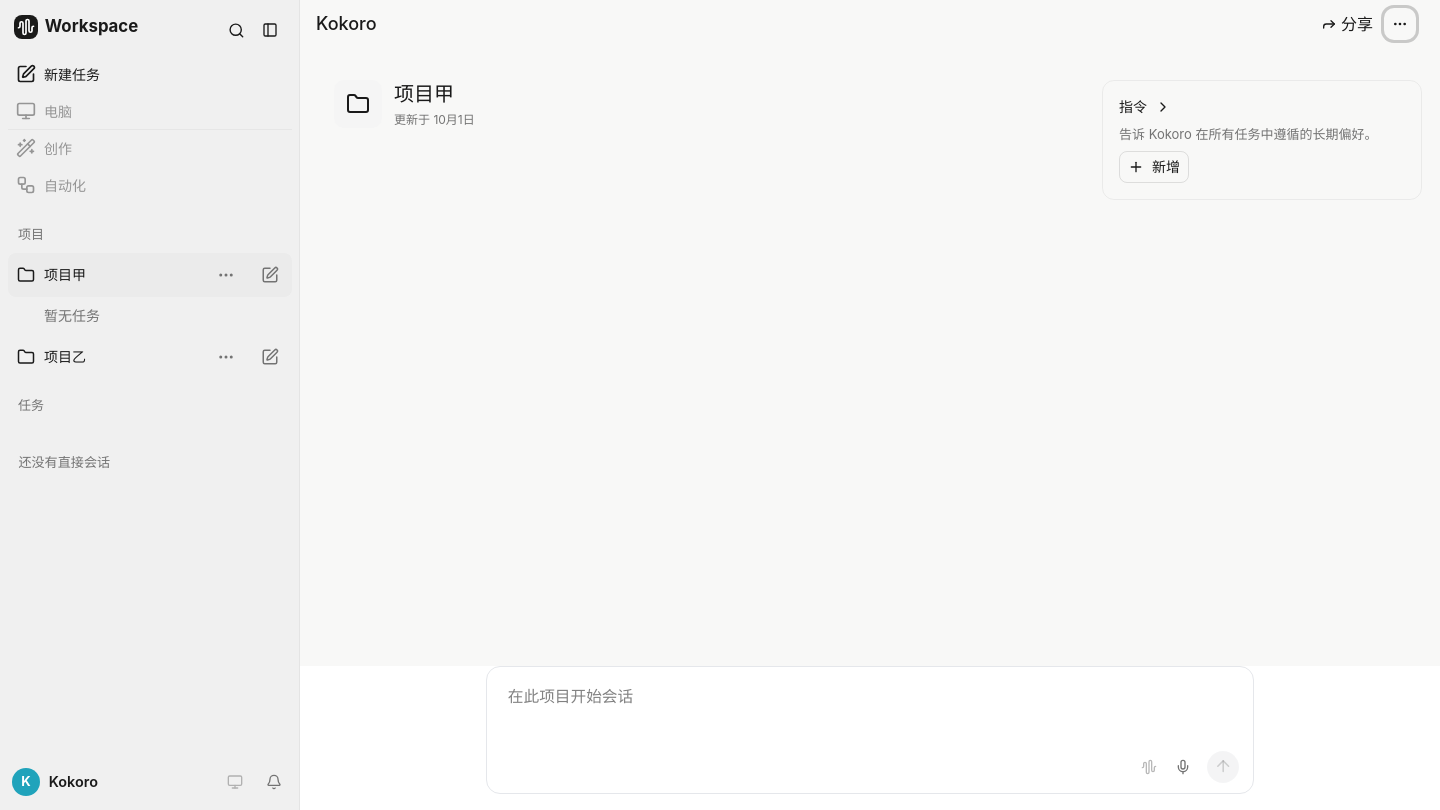
Test case: PATCH 403 保持编辑原文并呈现失败，不报保存成功
Check: the heading "项目甲" is shown, box x1=394 y1=82 x2=454 y2=106
Press ArrowDown in the 1st button named "项目选项", box x1=1384 y1=8 x2=1416 y2=40
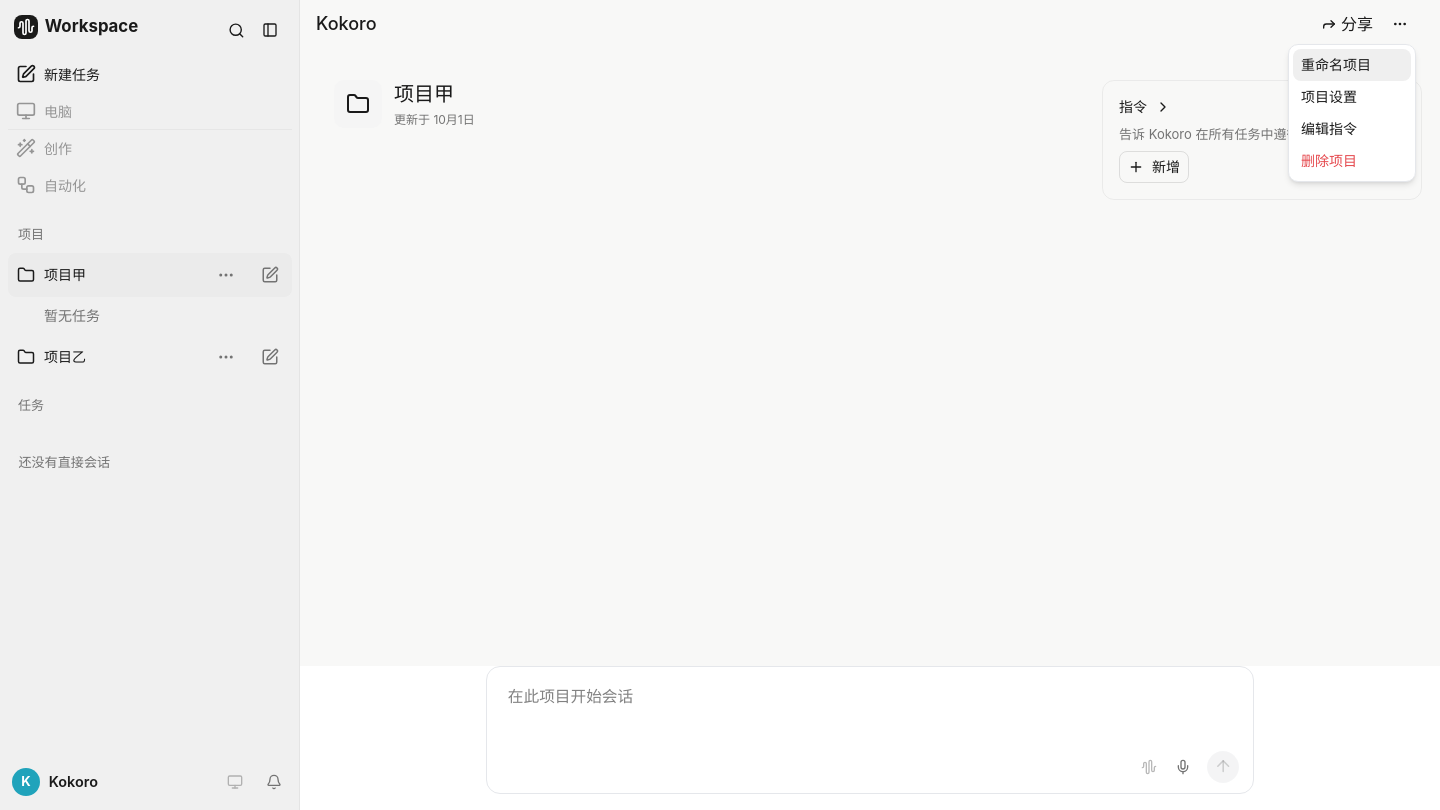
Click the menu item "编辑指令": (1329, 128) x1=1301 y1=120 x2=1357 y2=137
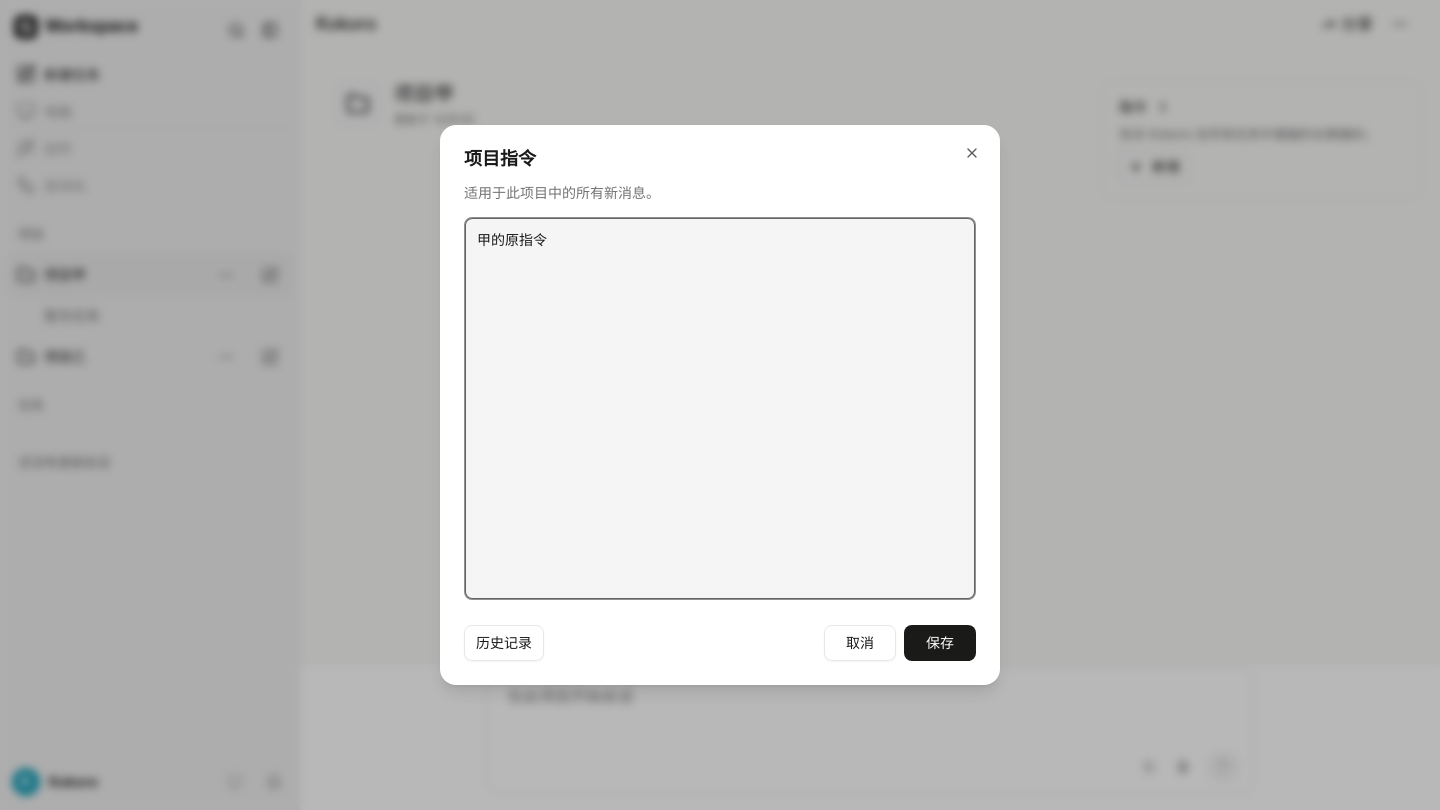
Replace the text in the text box with "保留失败原文": (720, 408) x1=464 y1=217 x2=976 y2=600
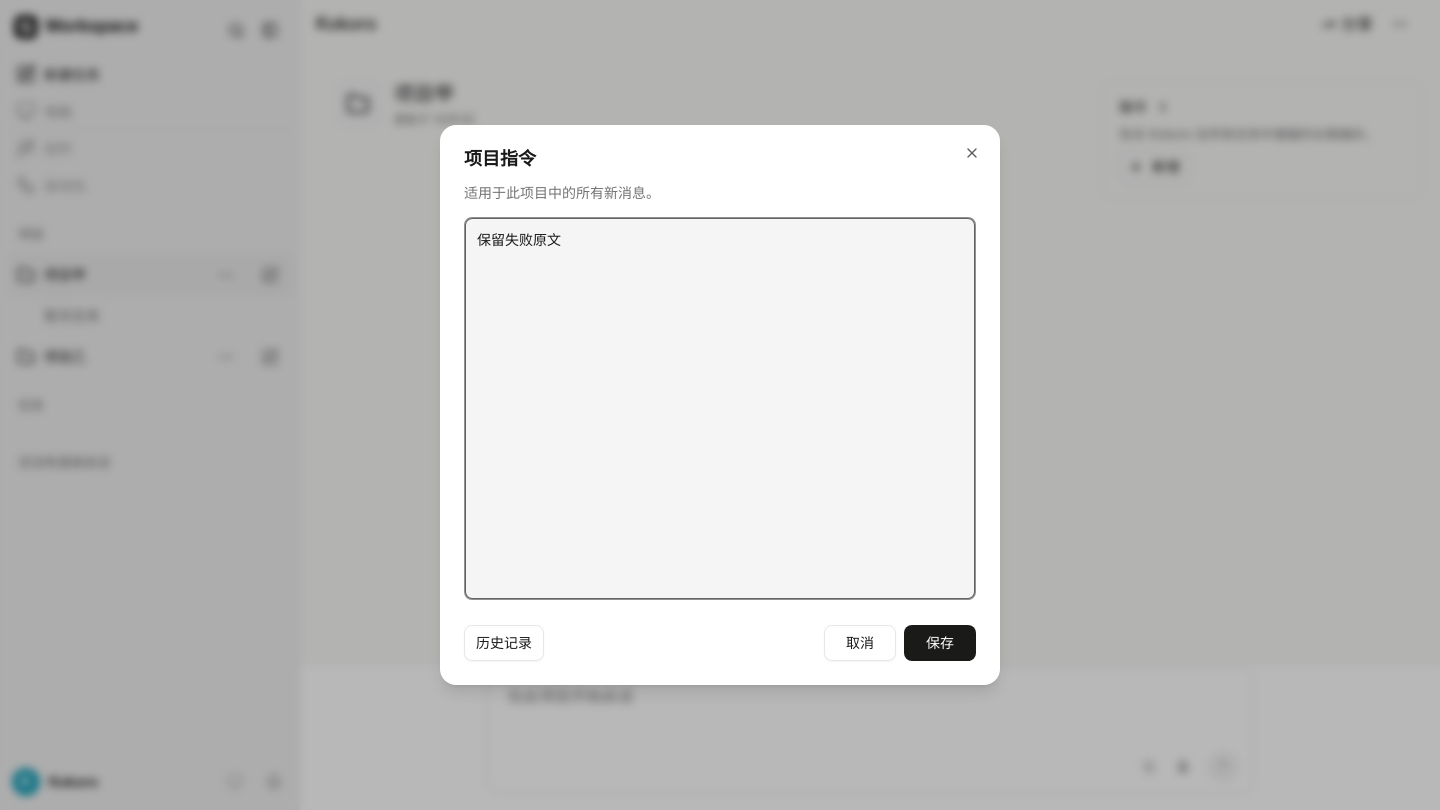
Click the button "保存": (940, 643) x1=904 y1=625 x2=976 y2=661
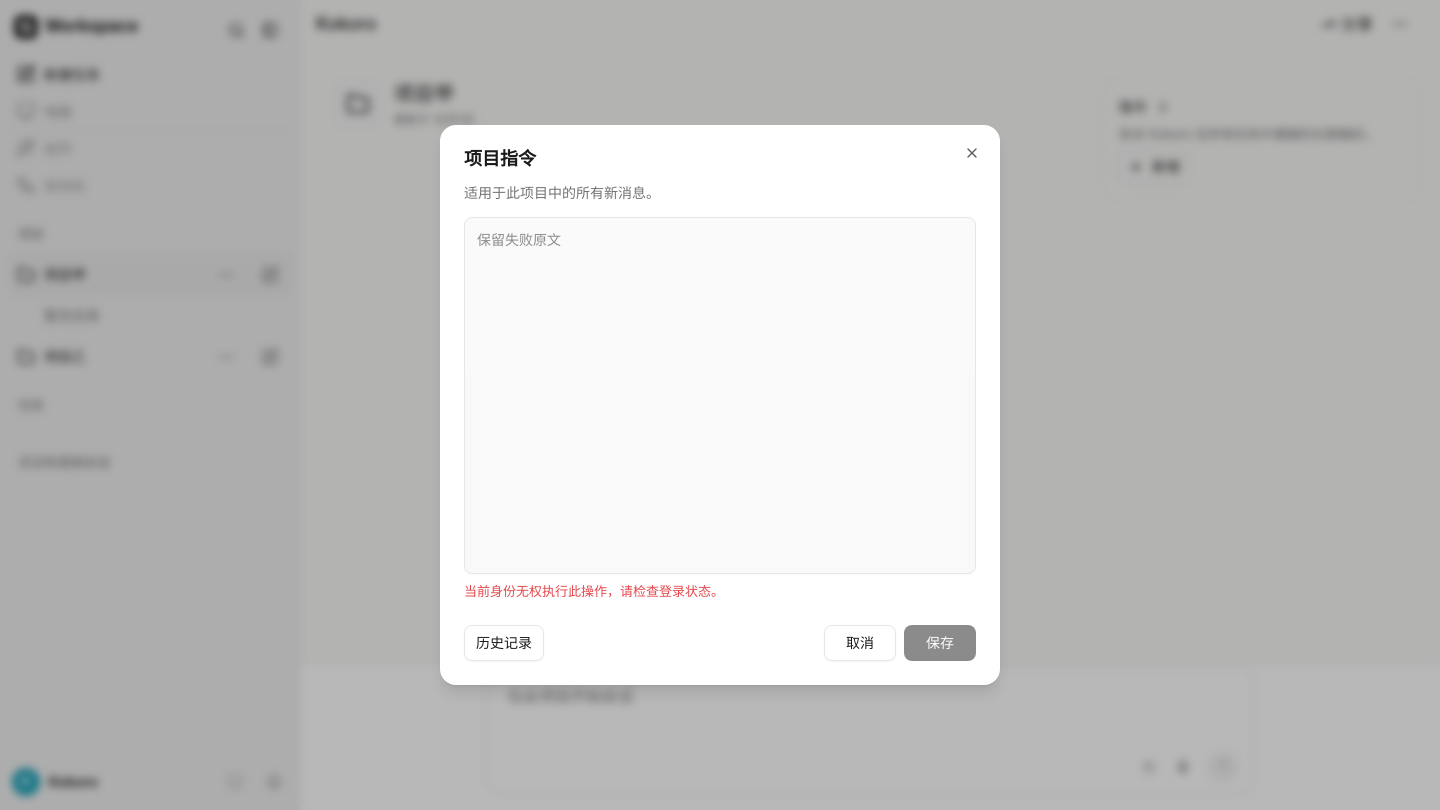
Check: the message shows "无权执行此操作", box x1=464 y1=583 x2=724 y2=599
Check: the text box is disabled, box x1=464 y1=217 x2=976 y2=574
